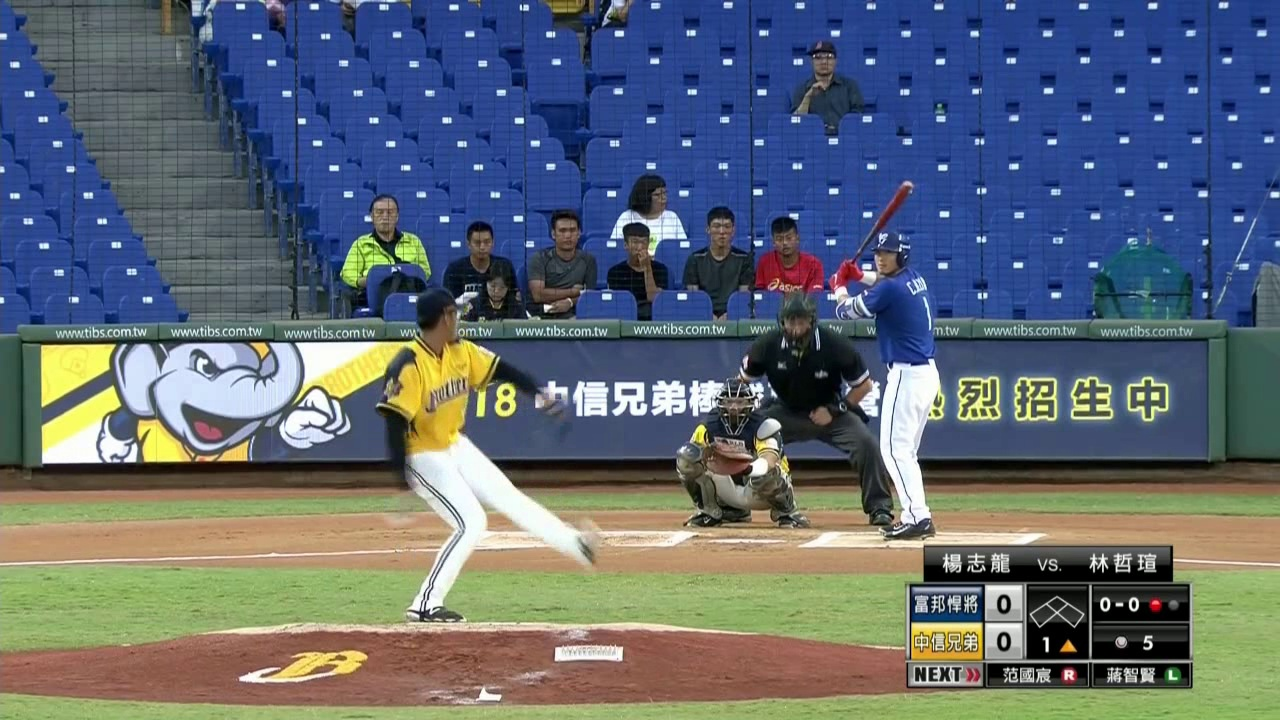ball: (383, 514, 416, 526)
base: (1030, 592, 1087, 629)
bat: (849, 178, 916, 260)
out: (1147, 595, 1180, 614)
score1: (984, 584, 1021, 621)
score2: (986, 624, 1023, 658)
session: (1039, 634, 1079, 654)
strikeball: (1098, 593, 1140, 614)
total: (1108, 629, 1165, 653)
